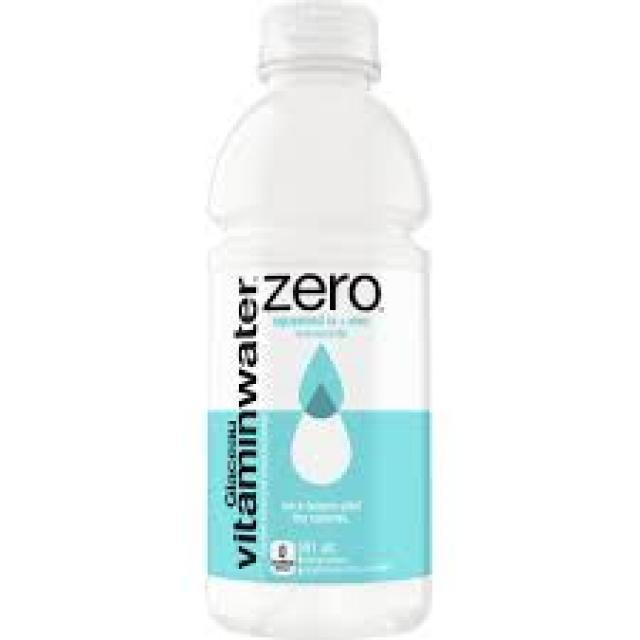Plastic: (205, 11, 432, 582)
